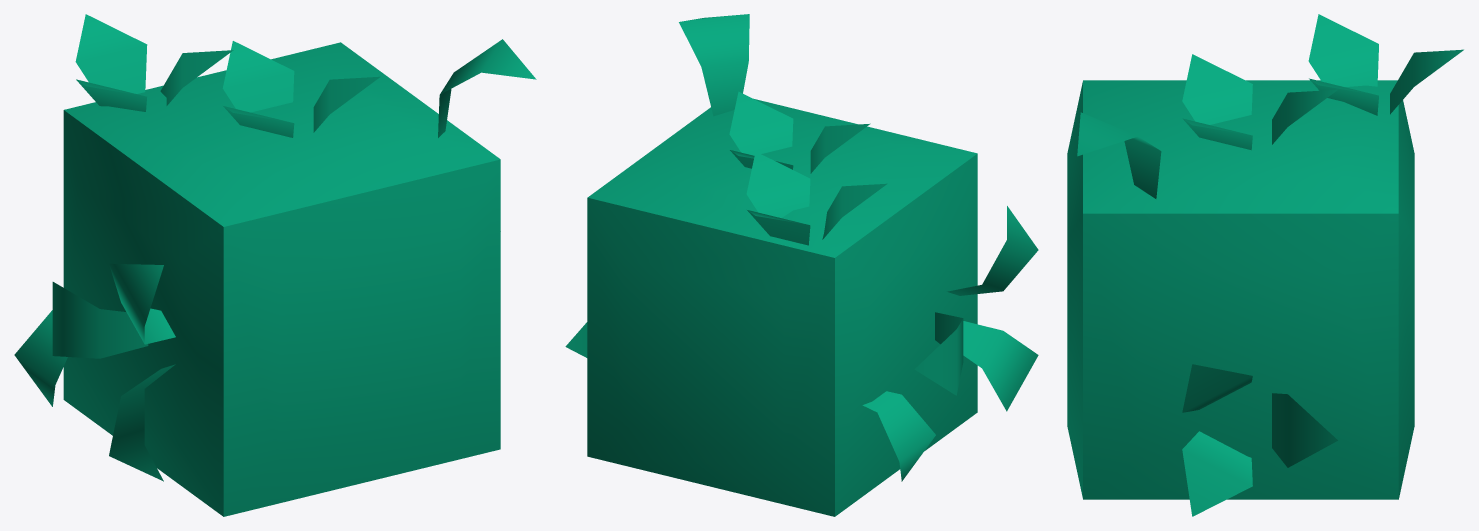
The picture shows the model from 3 angles, left to right: view 1: azimuth 30°, elevation 25°; view 2: azimuth 150°, elevation 25°; view 3: azimuth 270°, elevation 25°; orthographic projection. The views are drawn at different scales.
Parts seen in each view (by area): view 1: mergedBlocks; view 2: mergedBlocks; view 3: mergedBlocks.
Part boxes in pixels (bbox=[...]): mergedBlocks: bbox=[14, 14, 536, 516]; mergedBlocks: bbox=[565, 14, 1038, 516]; mergedBlocks: bbox=[1067, 14, 1463, 516].
Bounding box in the file's own units: 14.66 × 13.7 × 12.58.
